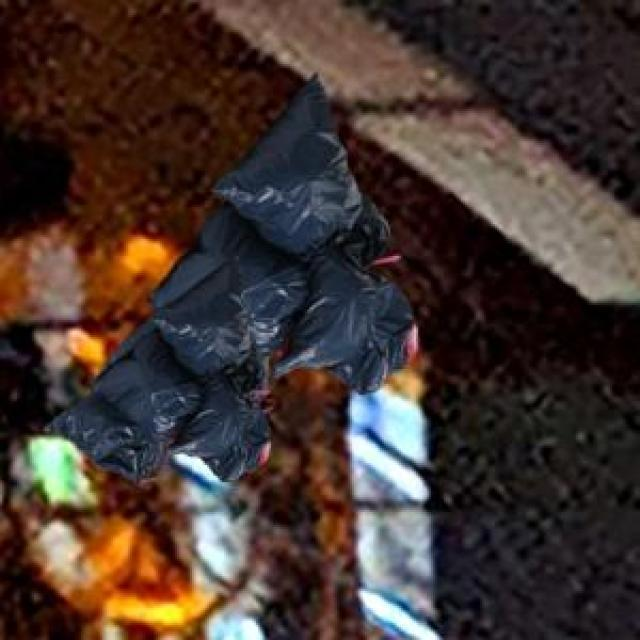miscellaneous trash: (96, 70, 414, 403), (41, 250, 267, 480)
